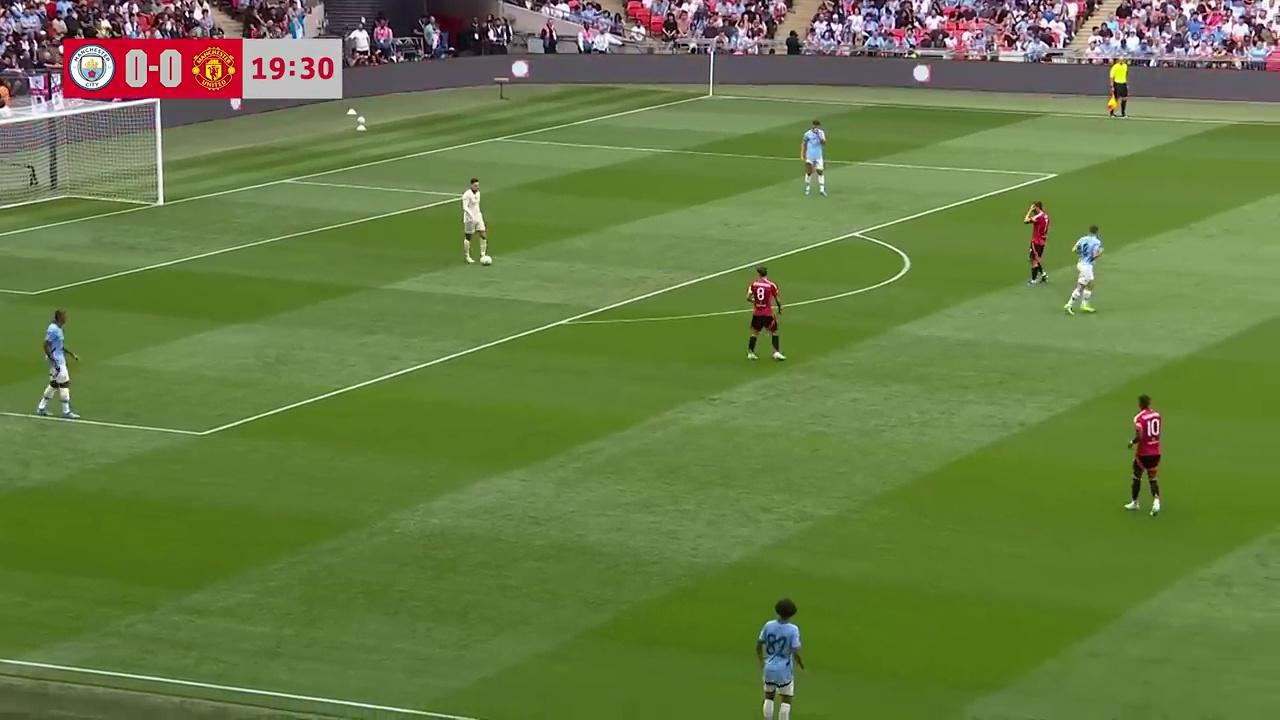ball: (479, 256, 493, 266)
player: (757, 598, 807, 720), (35, 311, 82, 419), (1125, 394, 1162, 517), (745, 265, 785, 362), (1064, 224, 1103, 315), (461, 176, 492, 265), (1023, 200, 1050, 285), (800, 119, 827, 196)
referee: (1107, 58, 1130, 119)
